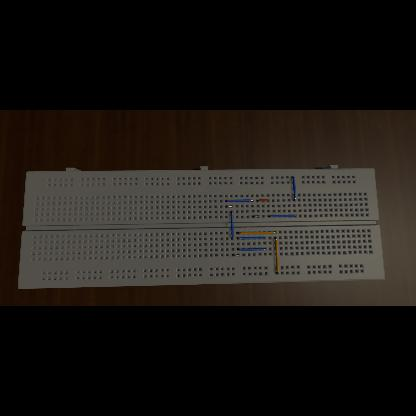breadboard: (19, 165, 386, 289)
wire: (274, 238, 278, 274), (236, 248, 266, 252), (230, 211, 234, 239), (292, 177, 296, 201), (236, 232, 276, 234), (236, 238, 266, 240), (225, 200, 253, 202), (268, 215, 296, 217), (256, 200, 268, 202), (226, 206, 233, 208), (252, 216, 258, 218), (232, 254, 238, 256)
